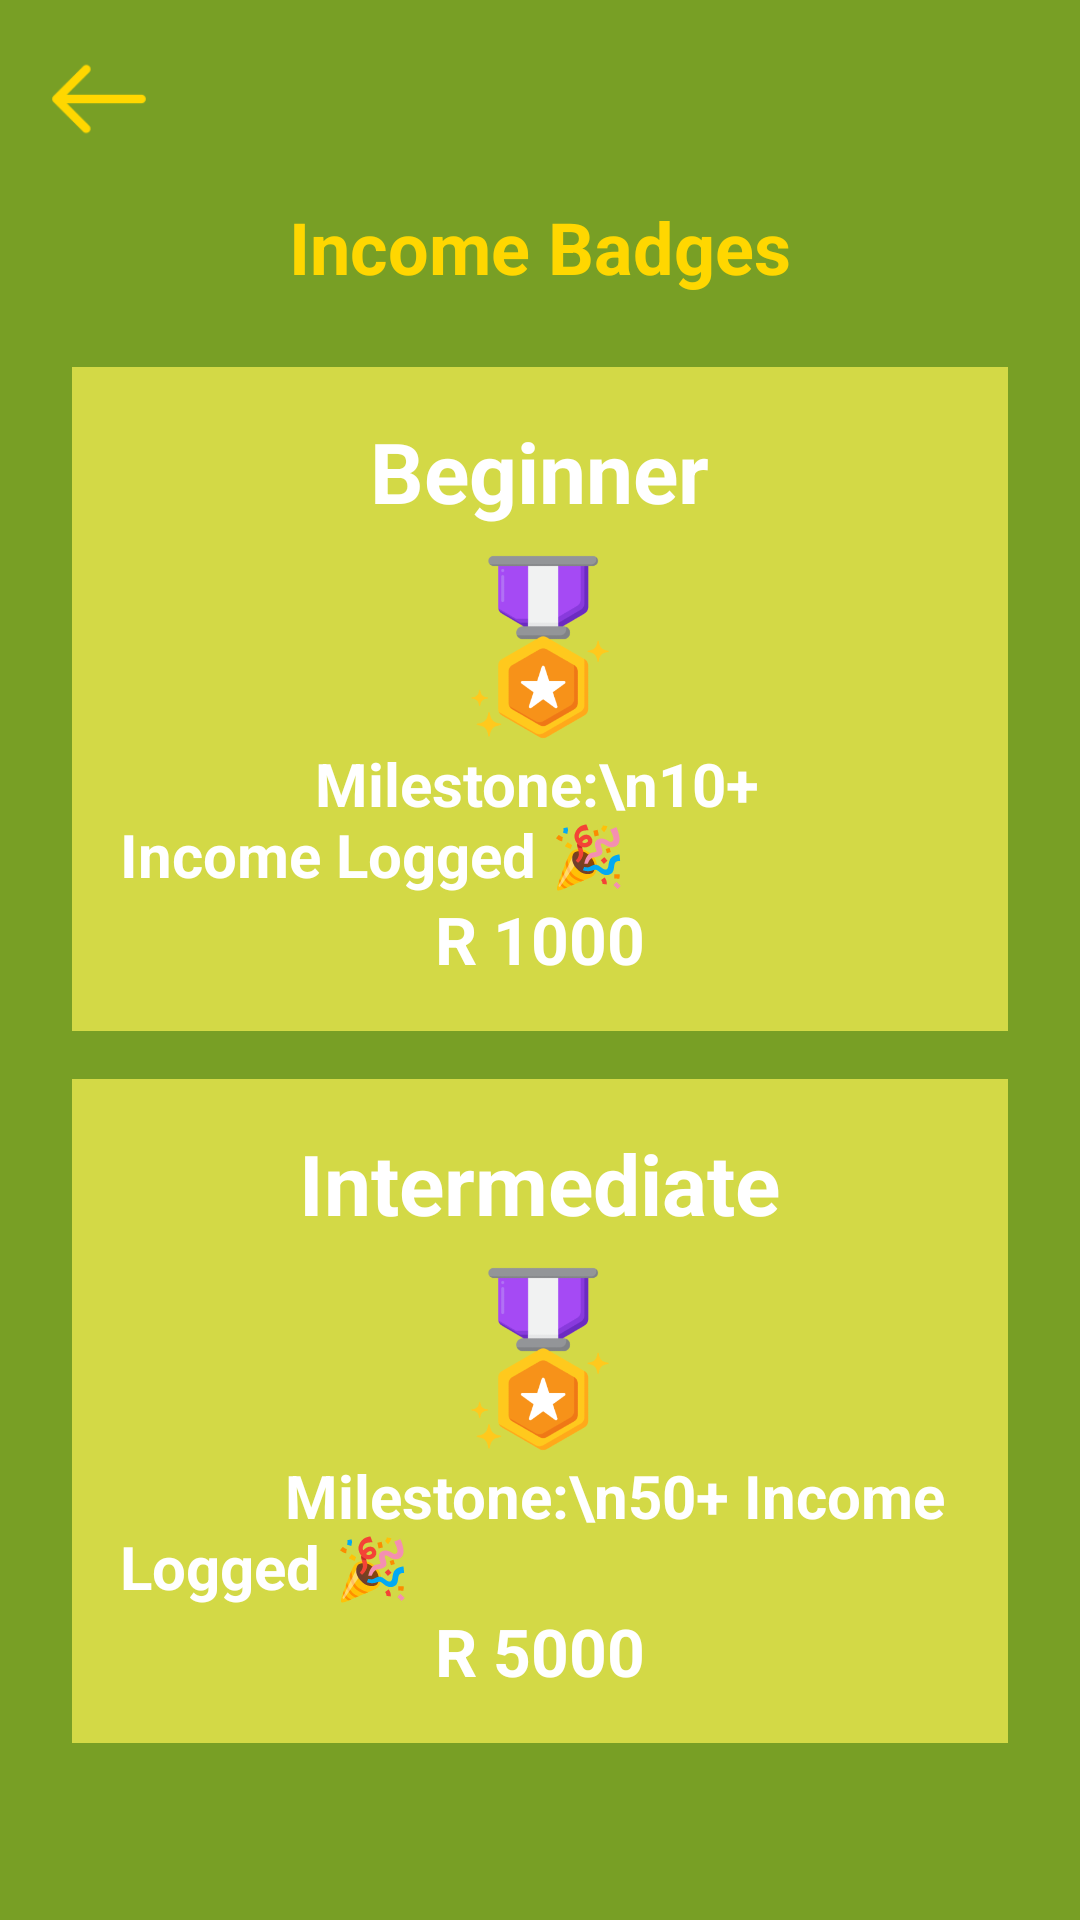

Icon click points for this 1080px x 1920px phone screenshot, format point (x, y):
back: point (99, 99)
medal: point (540, 647), point (540, 1359)
